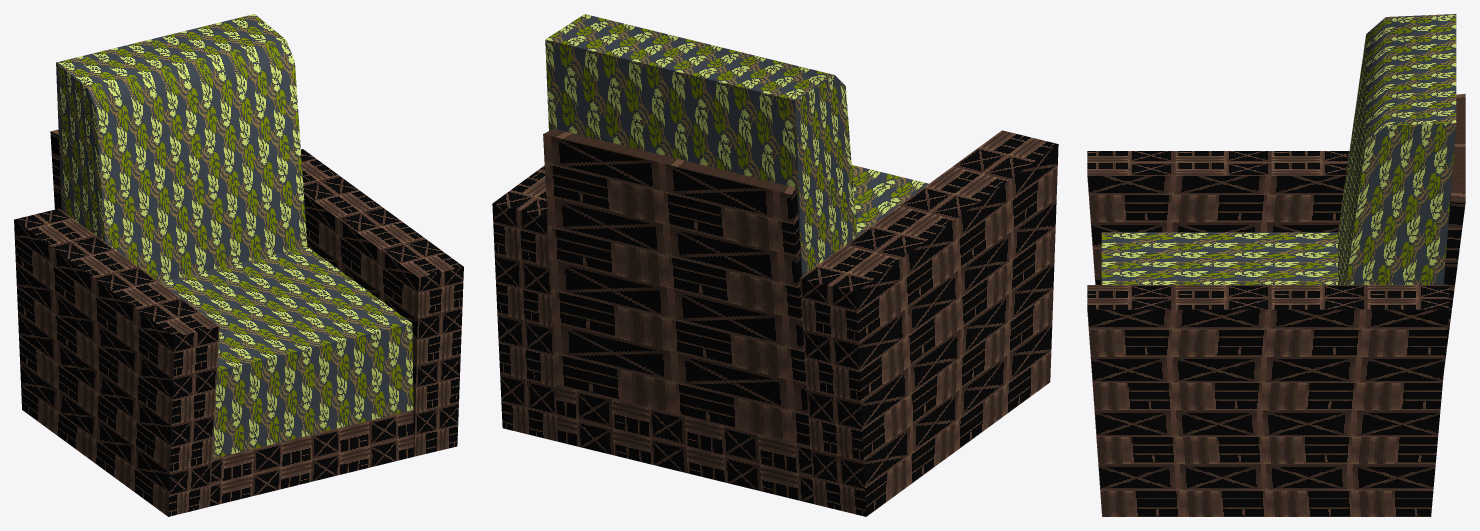
3 renders of one model, left to right at view 1: azimuth 30°, elevation 25°; view 2: azimuth 150°, elevation 25°; view 3: azimuth 270°, elevation 25°, orthographic. The views are drawn at different scales.
Parts seen in each view (by area): view 1: 3912kg3_gs14; view 2: 3912kg3_gs14; view 3: 3912kg3_gs14.
Boxes of the visible parts, bbox=[...] form: 3912kg3_gs14: bbox=[14, 14, 463, 516]; 3912kg3_gs14: bbox=[492, 14, 1058, 516]; 3912kg3_gs14: bbox=[1087, 14, 1465, 516].
Bounding box in the file's own units: 0.9922 × 1.08 × 1.
Materials: 2 (2 with a texture image).
